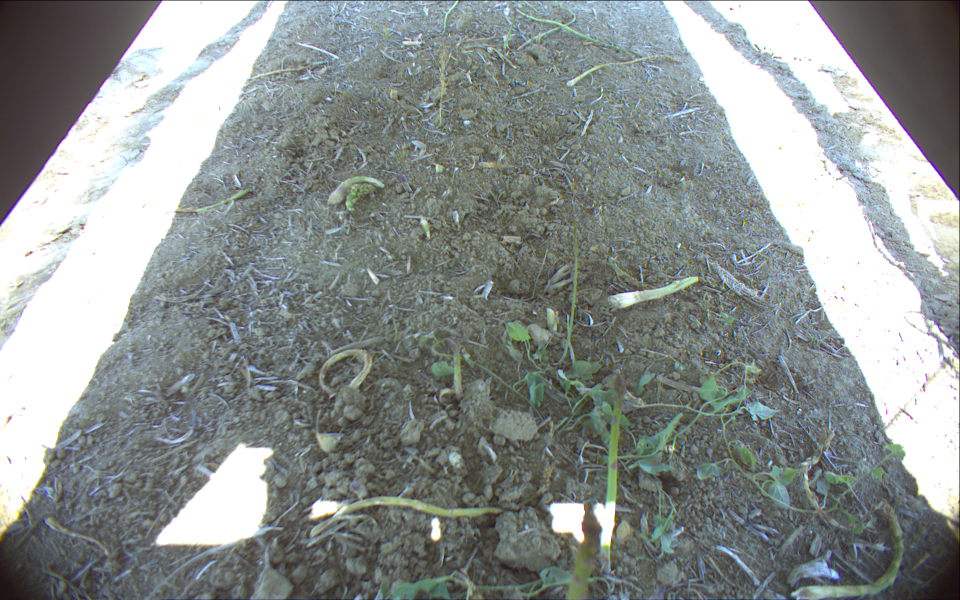aspa: (598, 371, 627, 575), (567, 506, 605, 600)
